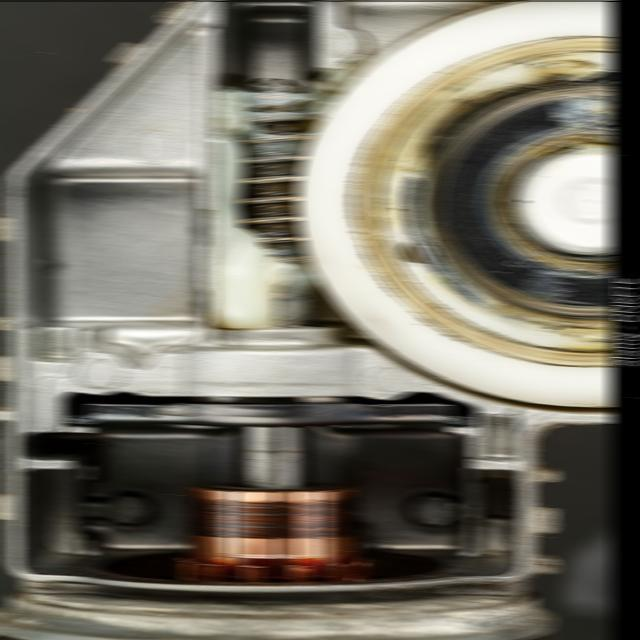Gear: (230, 76, 322, 286)
